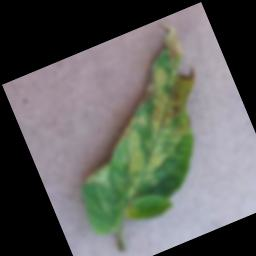Leaf_Mold: (68, 18, 230, 201), (80, 161, 120, 198)
